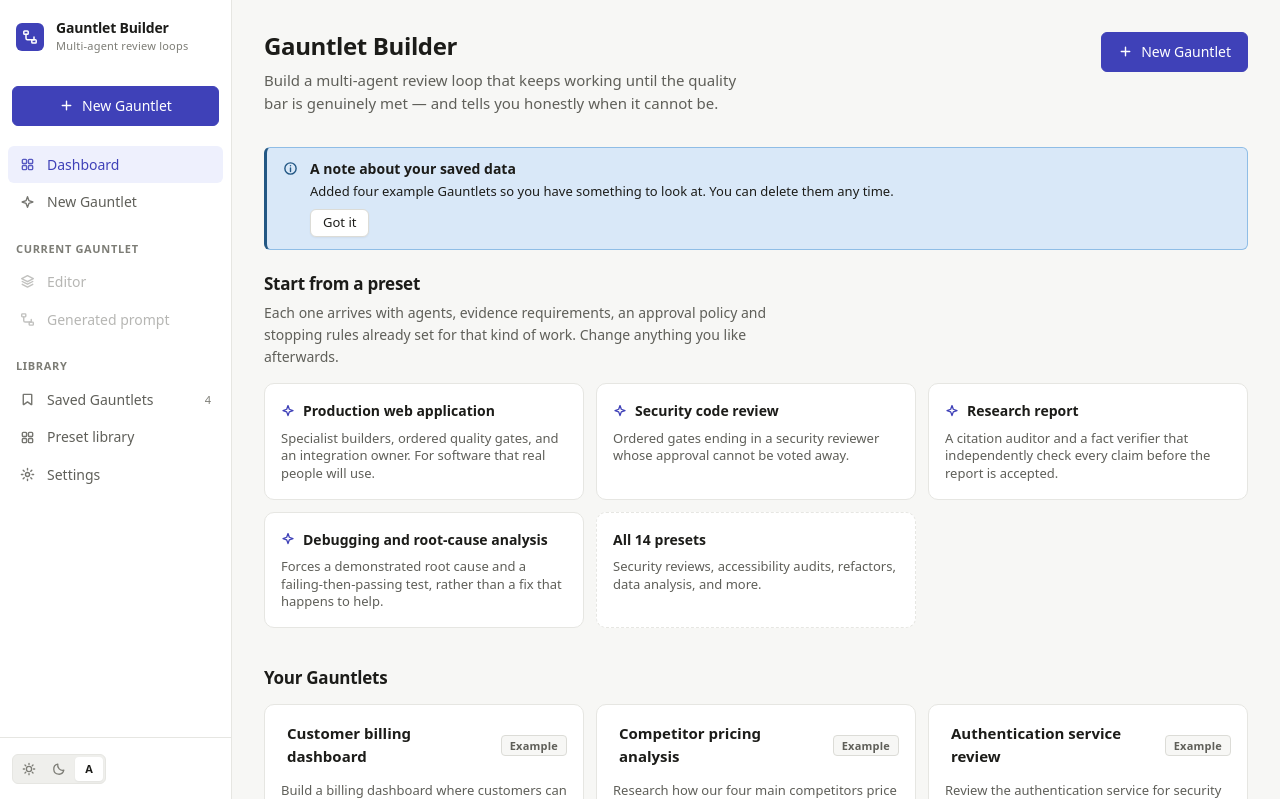
Scenario: creating a Gauntlet › surfaces validation problems on the review step with a way to fix them
Click the 2nd button "New Gauntlet" at (116, 106), box [12,86,219,126]
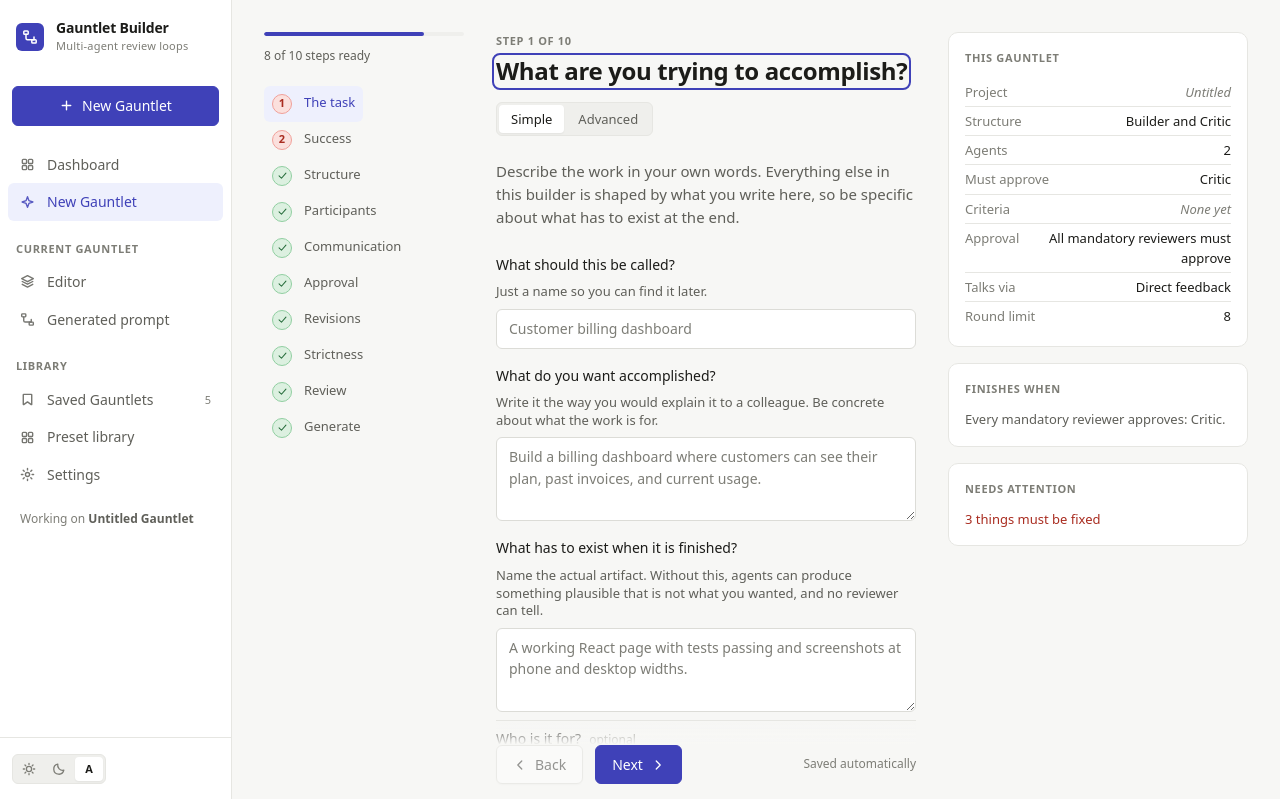
Click the button with aria-label "Step 9. Review" at (309, 392), box [264,374,354,410]
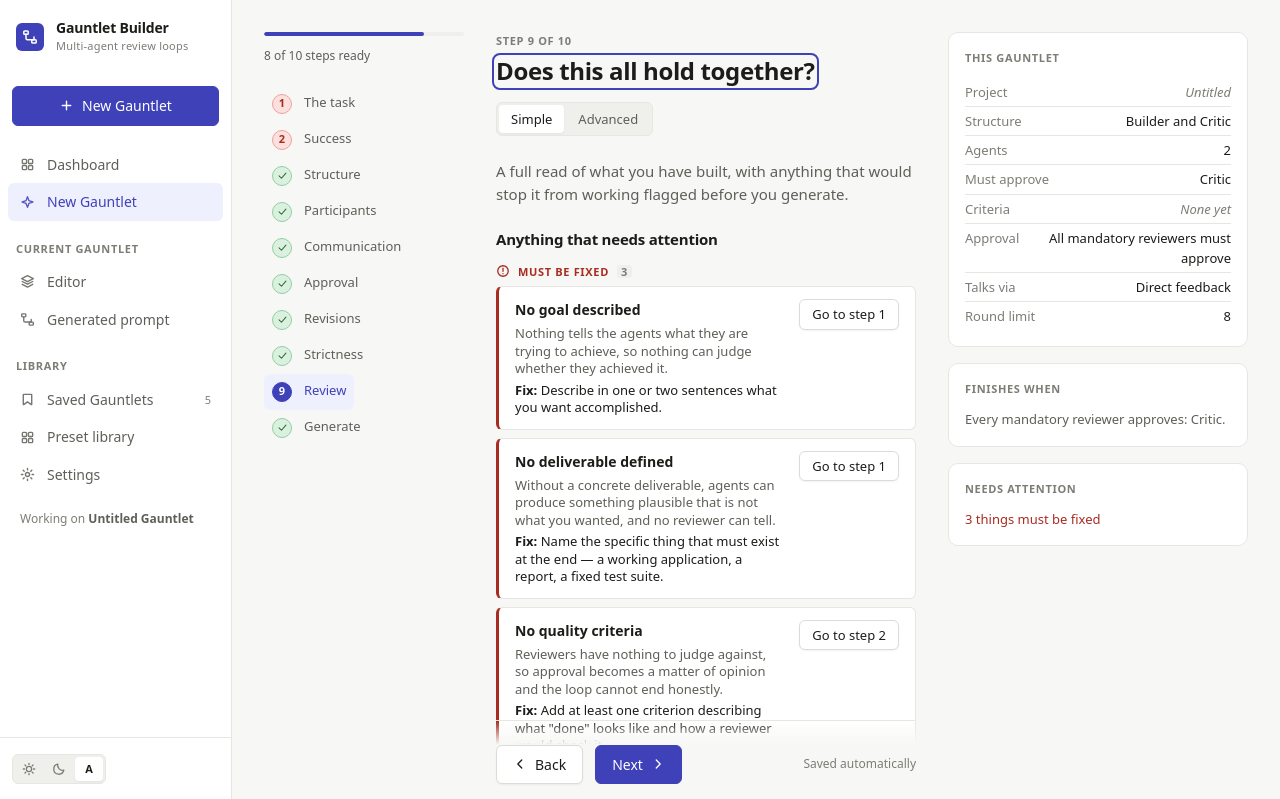
Check: the heading "Must be fixed 3" is shown, box [496,264,632,279]
Check: the text "No goal described" is shown, box [515,300,640,320]
Check: the button "Go to step 1" in the row of "No goal described" is shown, box [799,300,899,330]
